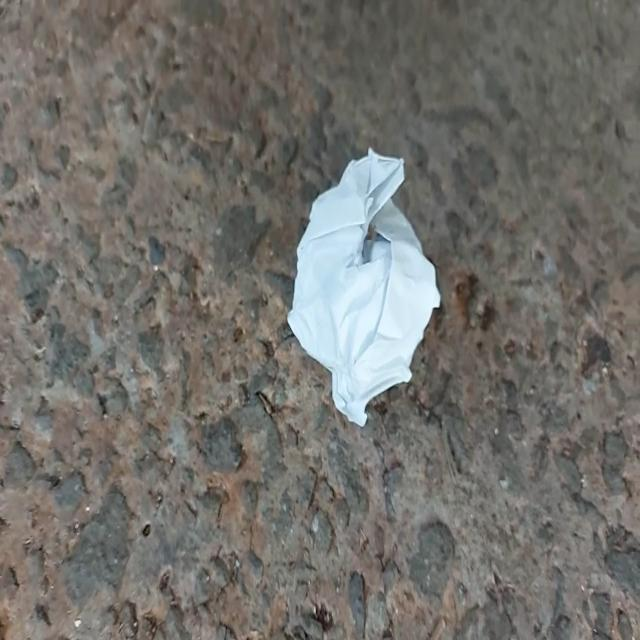Paper: (279, 122, 455, 437)
